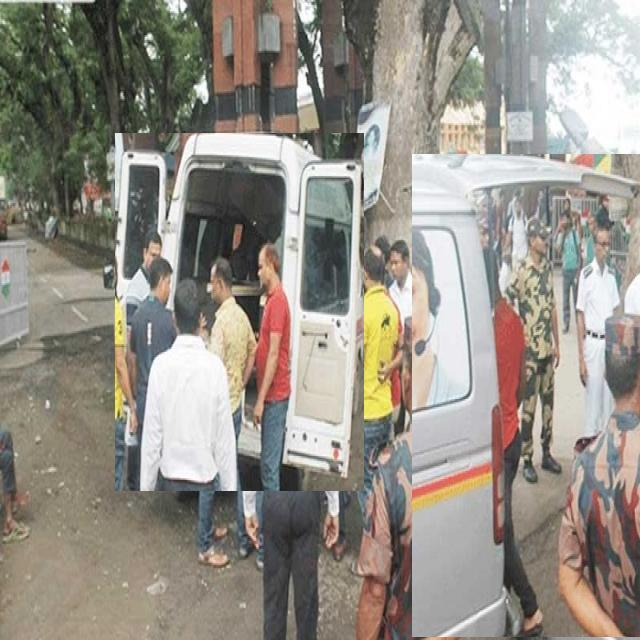emergency: (412, 155, 640, 637), (115, 134, 364, 491), (112, 133, 315, 489), (219, 379, 240, 458)
